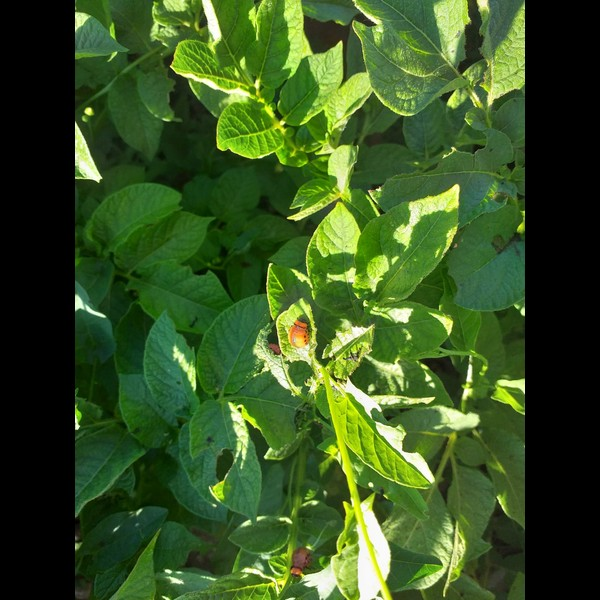hrosc: (287, 317, 314, 350), (289, 546, 312, 578)
